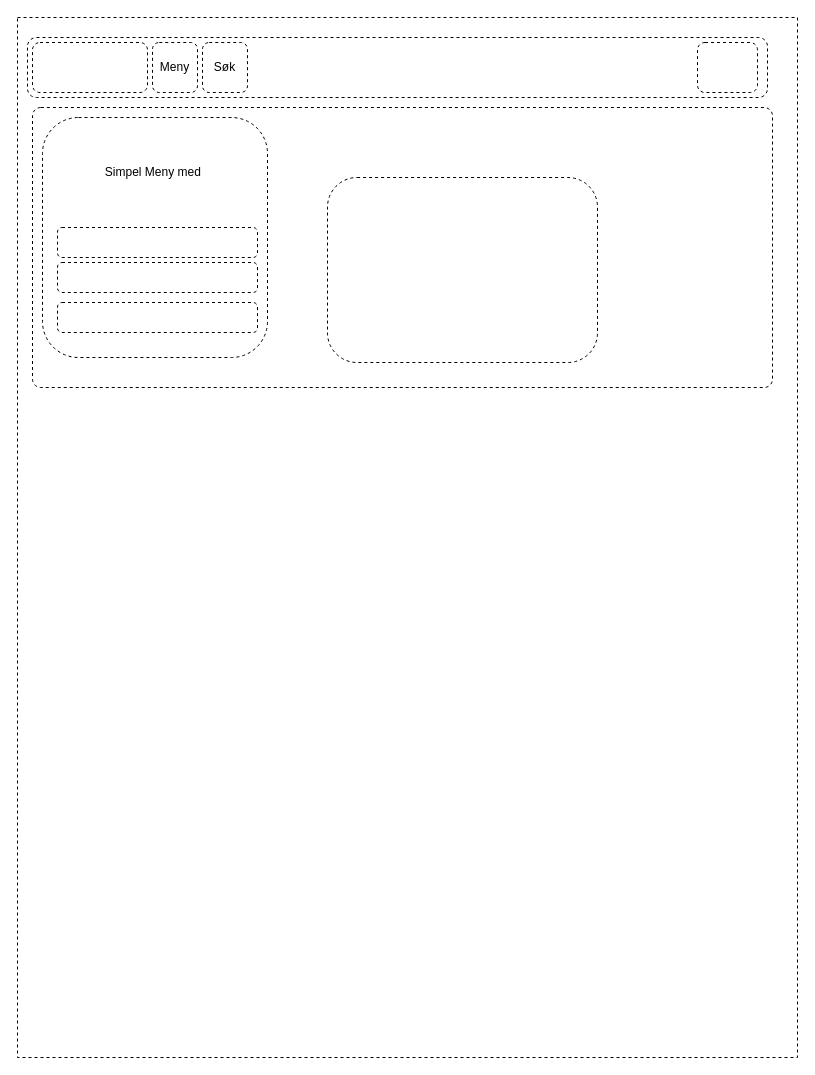
This 815x1075 diagram has some shape labels left out. Here are the shapes that lost their labels. From the top down, the centre of each, then its label:
At point 90,67: "Logo".
At point 727,67: "Logg Inn".
